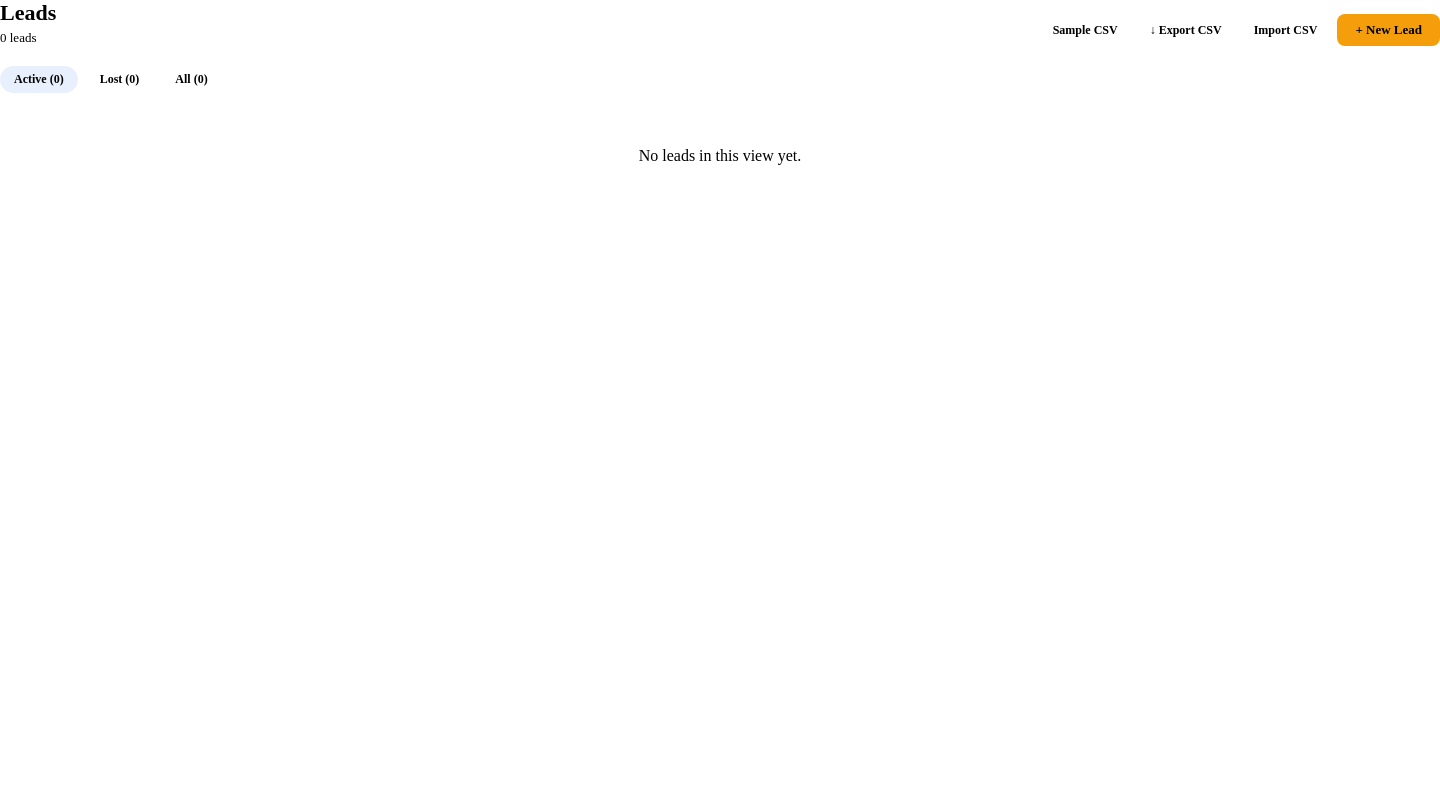
Test: clicking + New Lead opens the create modal
What coordinates should you click on to do the following:
click the button "+ New Lead"
I would click on:
 (1389, 30)
Its box is top-left (1337, 14), bottom-right (1439, 46).
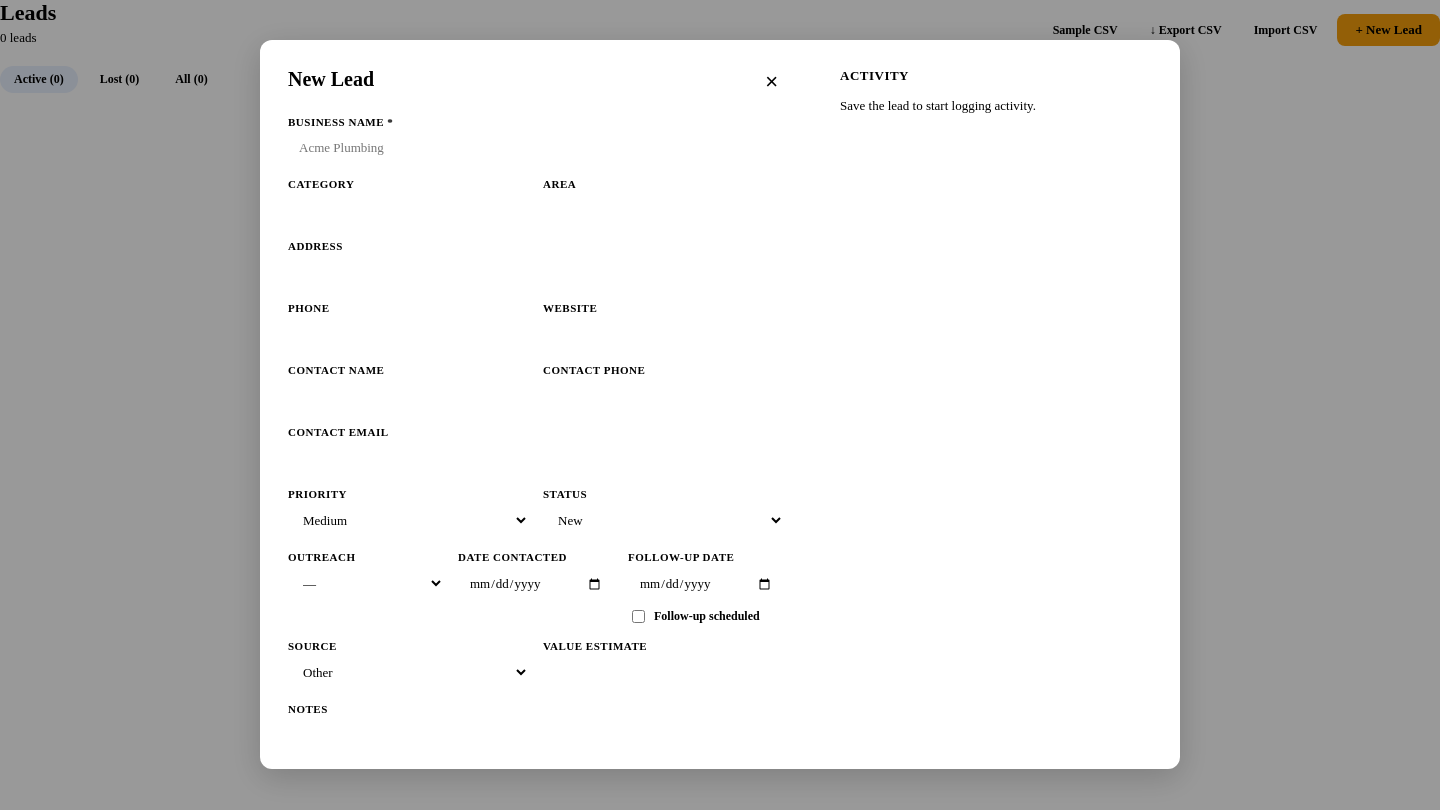
Result: the text "New Lead" is shown at top-left (288, 68), bottom-right (374, 91)
